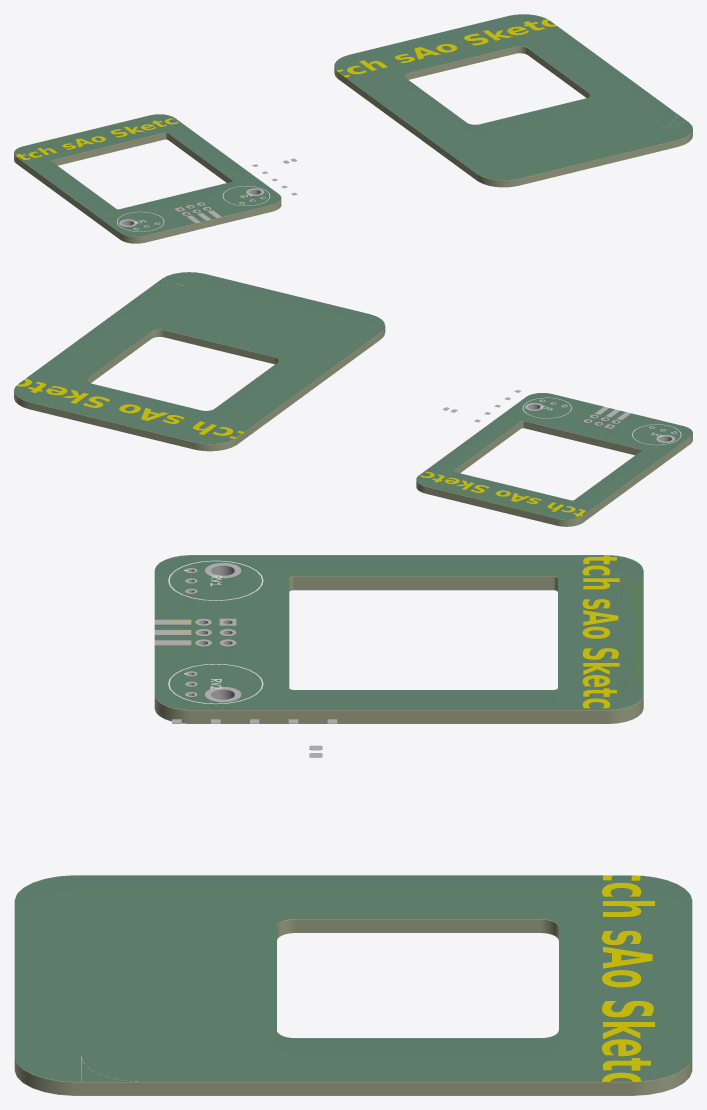
The model's file is etch-sao-sketch.glb.
3 renders of one model, top to bottom at view 1: azimuth 30°, elevation 25°; view 2: azimuth 150°, elevation 25°; view 3: azimuth 270°, elevation 25°, orthographic. The views are drawn at different scales.
Parts seen in each view (by area): view 1: =>[0:1:1:9], =>[0:1:1:7], =>[0:1:1:2]; view 2: =>[0:1:1:9], =>[0:1:1:7], =>[0:1:1:2]; view 3: =>[0:1:1:9], =>[0:1:1:7], =>[0:1:1:2], =>[0:1:1:5].
Part boxes in pixels (<box>): =>[0:1:1:9]: <box>14,15,692,243</box>; =>[0:1:1:7]: <box>14,14,692,243</box>; =>[0:1:1:2]: <box>16,19,556,230</box>; =>[0:1:1:9]: <box>14,273,692,526</box>; =>[0:1:1:7]: <box>14,272,692,526</box>; =>[0:1:1:2]: <box>16,378,676,516</box>; =>[0:1:1:9]: <box>14,556,692,1095</box>; =>[0:1:1:7]: <box>14,555,692,1095</box>; =>[0:1:1:2]: <box>154,555,654,1082</box>; =>[0:1:1:5]: <box>81,560,263,1081</box>.
Bounding box in the file's own units: 0.1295 × 0.00166 × 0.0704.
4 materials, 4 textured.
